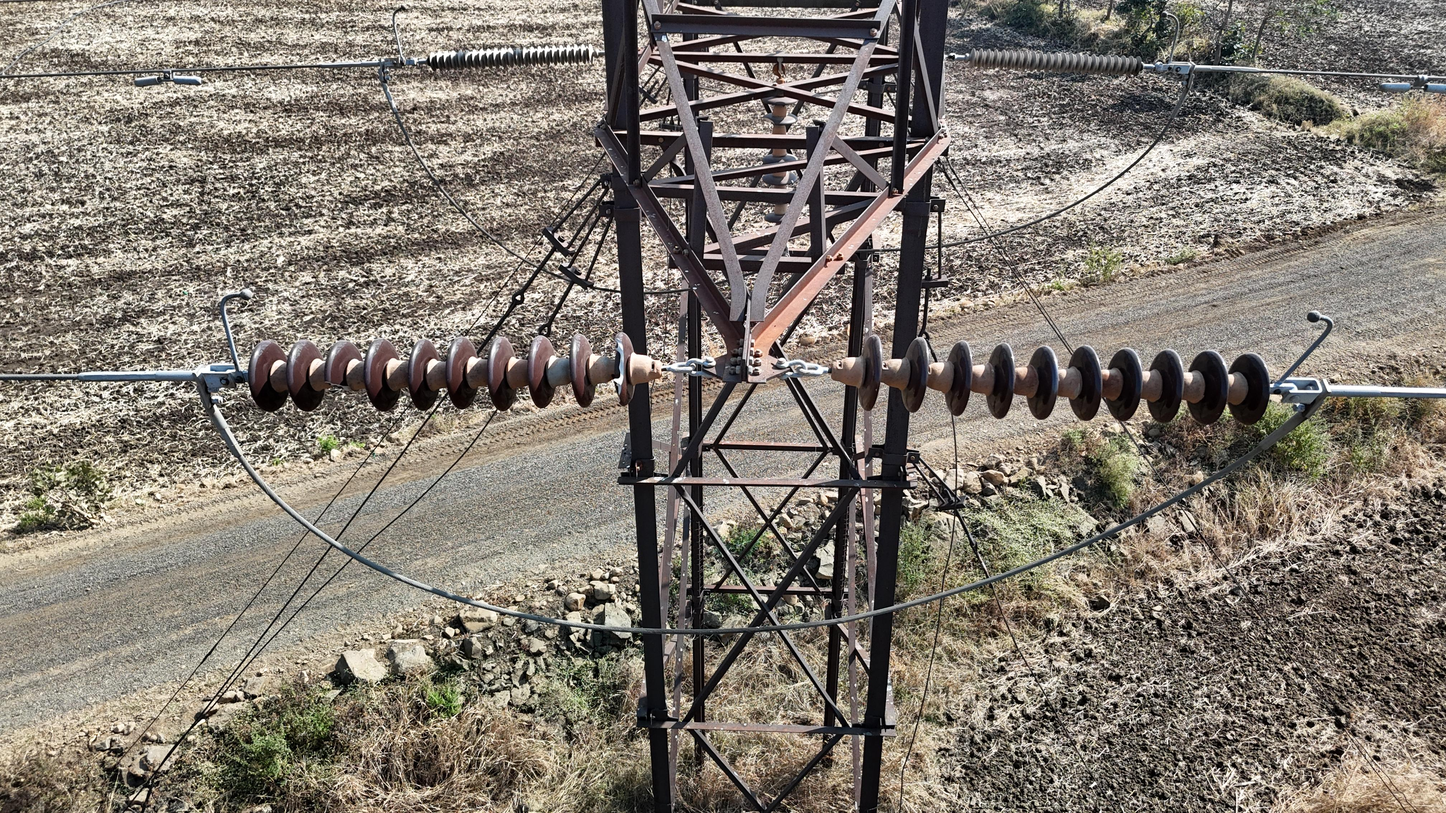broken_insulator: (315, 333, 359, 407), (604, 323, 640, 408)
